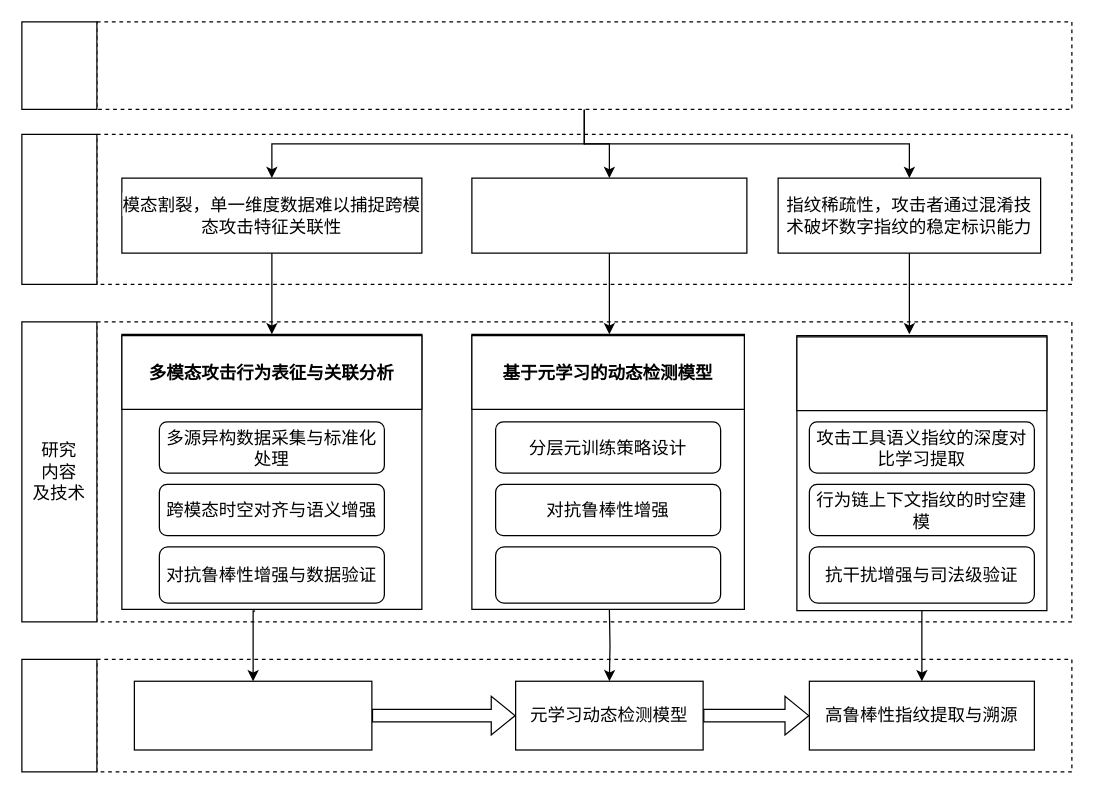
Some shapes in this 1094 by 794 pixel diagram are drawn without their labels. Each missing label, with the box of its shape:
在线自适应机制实现: (494, 546, 721, 603)
多维数据采集与特征工程: (133, 680, 372, 750)
小样本依赖 ， 新型攻击样本稀缺，传统监督学习泛化能力不足: (471, 177, 747, 253)
研究 对象: (21, 21, 97, 109)
研究 逻辑: (21, 658, 97, 772)
研究 问题: (21, 133, 97, 284)
面向高级持续性威胁的检测与溯源关键技术研究: (96, 21, 1072, 109)
高置信度指纹溯源体系: (796, 336, 1047, 411)
